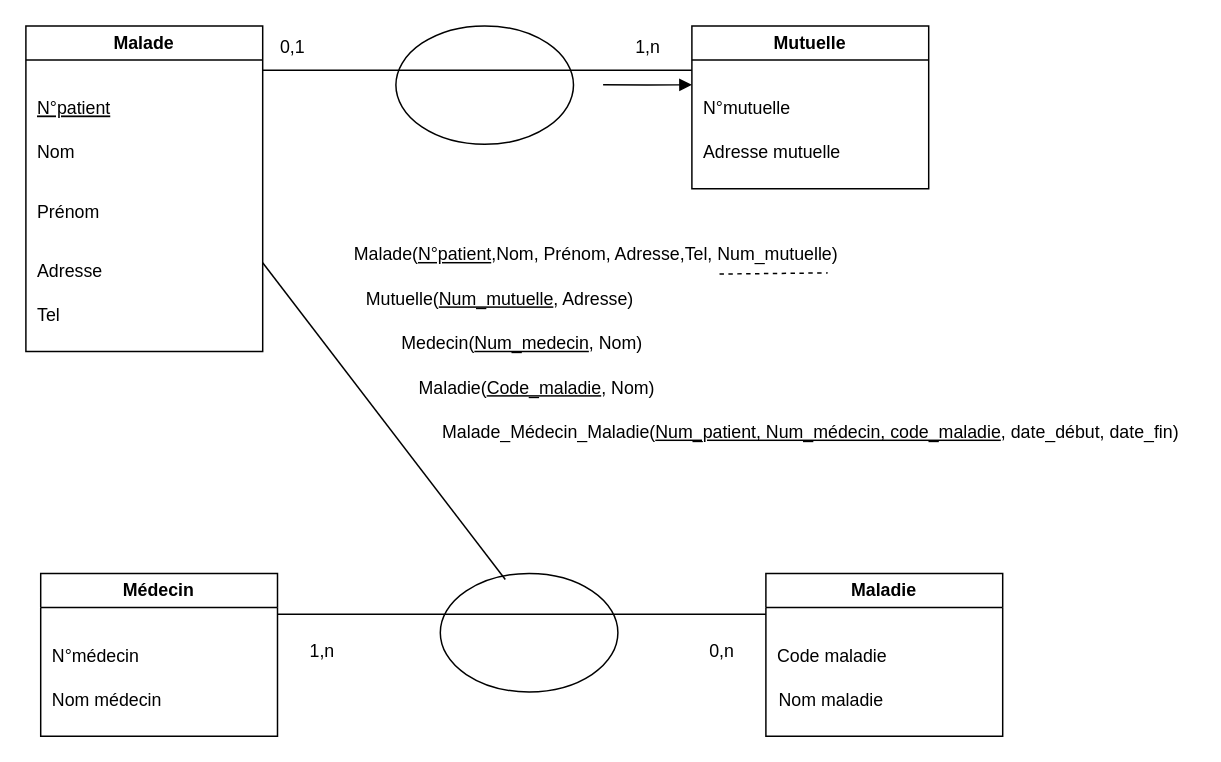
Image size: 1221x762. Some labels were removed from this diagram. Each missing label, with the centre of its shape:
Disposer Date début Date fin: the point at 484,84
Hospitaliser Date début Date fin: the point at 528,632
